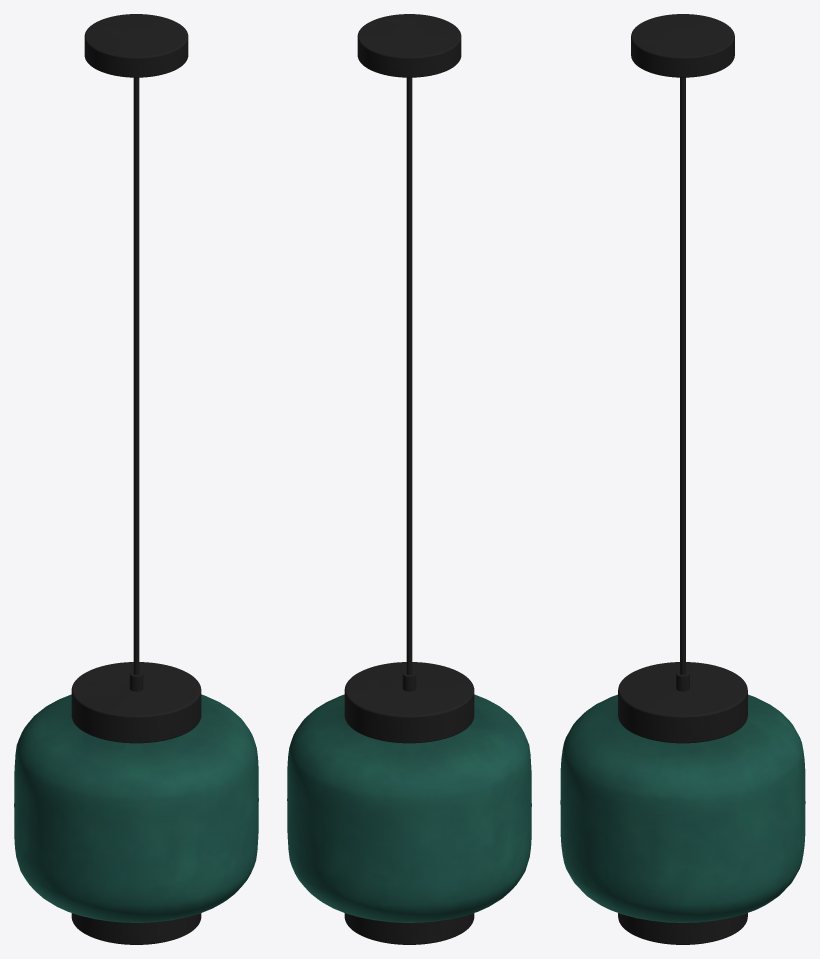
Rendered from abo-B07HKC3S7C.glb.
The picture shows the model from 3 angles, left to right: view 1: azimuth 30°, elevation 25°; view 2: azimuth 150°, elevation 25°; view 3: azimuth 270°, elevation 25°; orthographic projection.
Bounding box in the file's own units: 0.242 × 0.962 × 0.242.
Materials: 1 (1 with a texture image).
